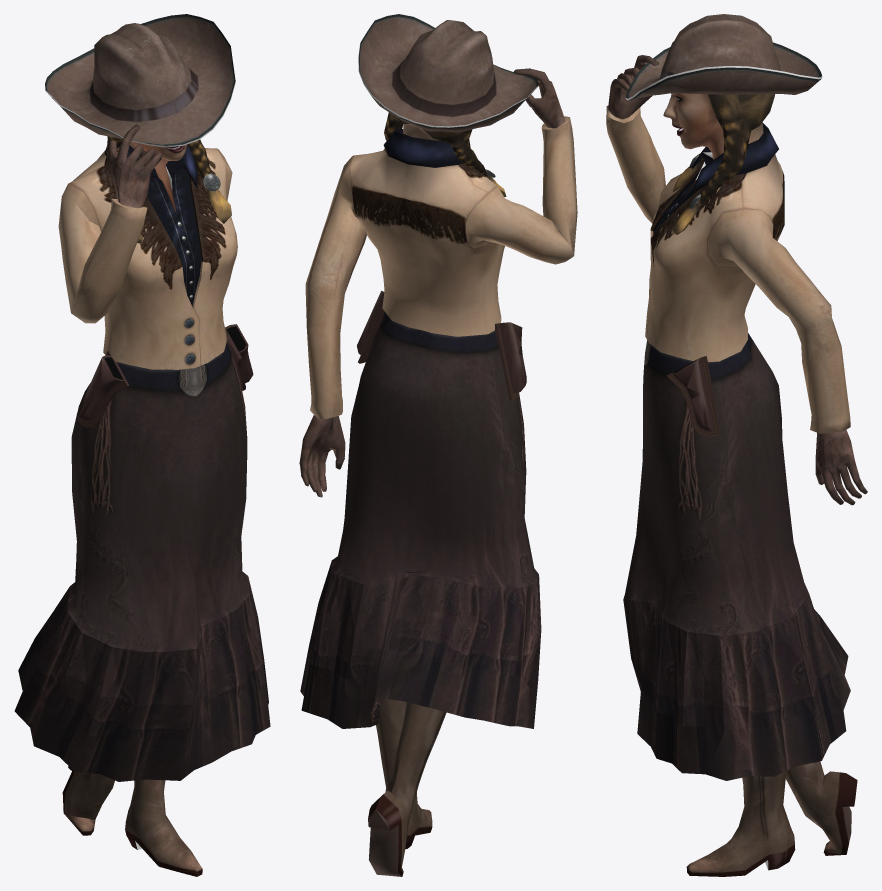
3 renders of one model, left to right at view 1: azimuth 30°, elevation 25°; view 2: azimuth 150°, elevation 25°; view 3: azimuth 270°, elevation 25°, orthographic. The views are drawn at different scales.
Visible parts, largest first — view 1: cowgirl_02 (×8); view 2: cowgirl_02 (×9); view 3: cowgirl_02 (×8).
Part boxes in pixels (x1,y1,x2,y2): cowgirl_02 (×8): (14,14,270,876); cowgirl_02 (×9): (299,14,577,876); cowgirl_02 (×8): (606,14,867,876).
Bounding box in the file's own units: 19.73 × 19.56 × 69.15.
Materials: 6 (5 with a texture image).
